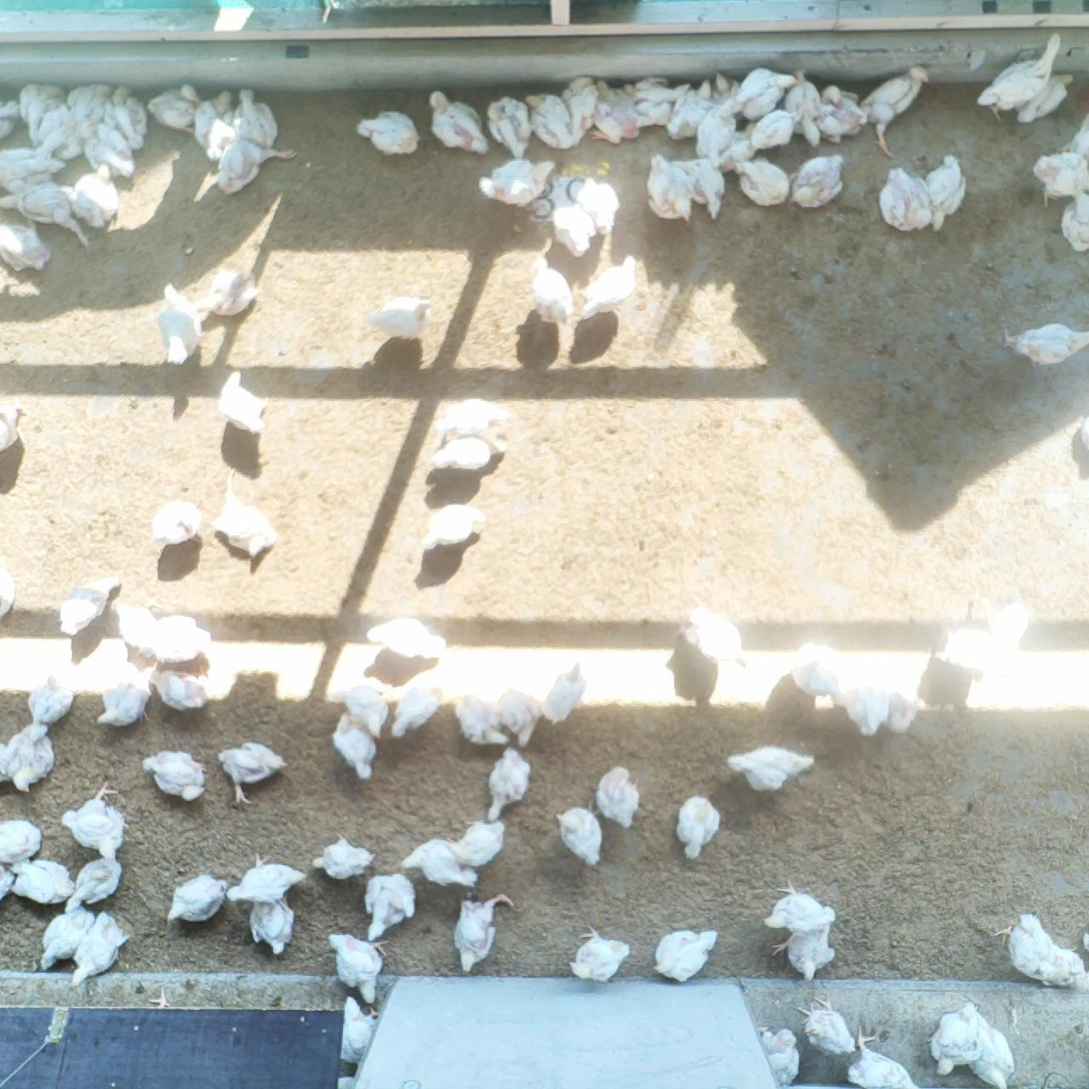chicken: (978, 30, 1067, 122), (212, 463, 283, 567), (862, 62, 936, 160), (0, 177, 96, 251), (55, 774, 131, 866), (727, 736, 825, 801), (447, 886, 516, 978), (214, 136, 305, 200), (324, 922, 389, 1010), (838, 1022, 921, 1089), (216, 737, 291, 811), (1001, 311, 1089, 373), (678, 605, 753, 677), (65, 907, 130, 990), (86, 657, 153, 737), (360, 612, 449, 672), (470, 155, 562, 213), (757, 876, 841, 939), (787, 633, 850, 717), (55, 574, 128, 644), (224, 852, 308, 912), (995, 907, 1058, 986), (564, 917, 635, 987), (936, 596, 999, 674), (135, 741, 209, 807), (432, 387, 521, 441), (0, 715, 60, 795), (584, 759, 647, 834), (924, 998, 982, 1079), (354, 100, 424, 165), (577, 251, 640, 323), (879, 165, 938, 241), (38, 904, 98, 978), (400, 838, 482, 892), (427, 87, 492, 155), (6, 848, 77, 910), (158, 868, 231, 928), (796, 989, 861, 1056), (362, 867, 417, 945), (156, 280, 203, 371), (365, 284, 435, 345), (330, 707, 384, 786), (650, 927, 723, 985), (21, 663, 86, 728), (141, 80, 207, 144), (551, 802, 611, 872), (416, 499, 486, 559), (966, 1013, 1021, 1089), (68, 158, 125, 231), (671, 158, 735, 223), (307, 824, 375, 885), (620, 71, 690, 130), (483, 745, 535, 824), (213, 364, 267, 440), (786, 148, 850, 212), (80, 115, 141, 181), (643, 150, 695, 227), (103, 590, 161, 659), (835, 665, 889, 739), (422, 434, 512, 478), (101, 81, 154, 155), (337, 669, 393, 739), (781, 61, 825, 150), (927, 141, 968, 236), (813, 81, 869, 150), (592, 74, 644, 148), (203, 259, 265, 321), (383, 677, 443, 741), (525, 85, 579, 156), (983, 590, 1040, 657), (1032, 143, 1089, 210), (665, 77, 720, 146), (445, 815, 508, 875), (735, 65, 802, 121), (228, 82, 284, 149), (331, 989, 379, 1067), (152, 606, 220, 661), (246, 889, 300, 958), (451, 688, 512, 749), (672, 791, 724, 862), (13, 77, 64, 149), (190, 85, 237, 163), (145, 496, 212, 550), (66, 850, 128, 908), (530, 254, 576, 332), (0, 213, 56, 277), (546, 199, 600, 264), (1017, 70, 1080, 125), (691, 96, 743, 162), (734, 155, 793, 213), (487, 94, 538, 161), (542, 657, 590, 728), (754, 1019, 803, 1087), (147, 666, 211, 716), (0, 144, 68, 190), (573, 173, 622, 236), (500, 684, 546, 749), (744, 107, 801, 158), (1049, 189, 1089, 260), (879, 674, 922, 740), (558, 73, 599, 140), (68, 77, 114, 134), (0, 815, 44, 870), (714, 128, 760, 172), (713, 70, 747, 122), (34, 97, 73, 142), (0, 397, 26, 463), (1056, 112, 1089, 159), (0, 561, 23, 625), (0, 91, 20, 140)
